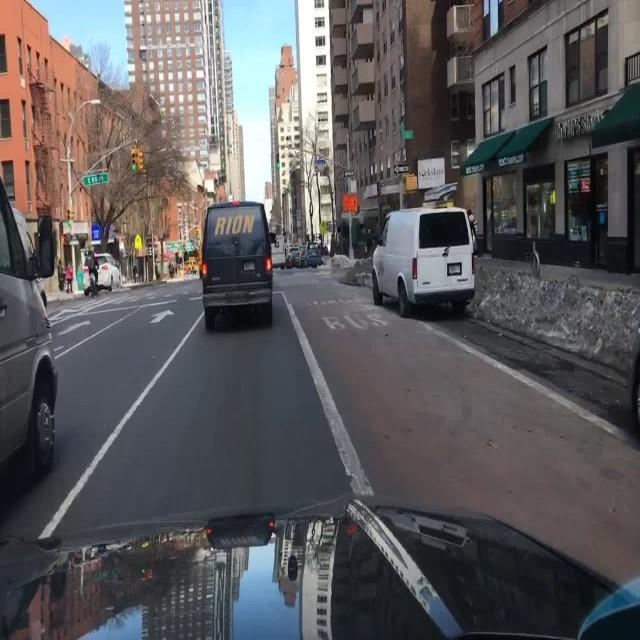normal: (352, 170, 489, 338), (186, 167, 300, 347)
